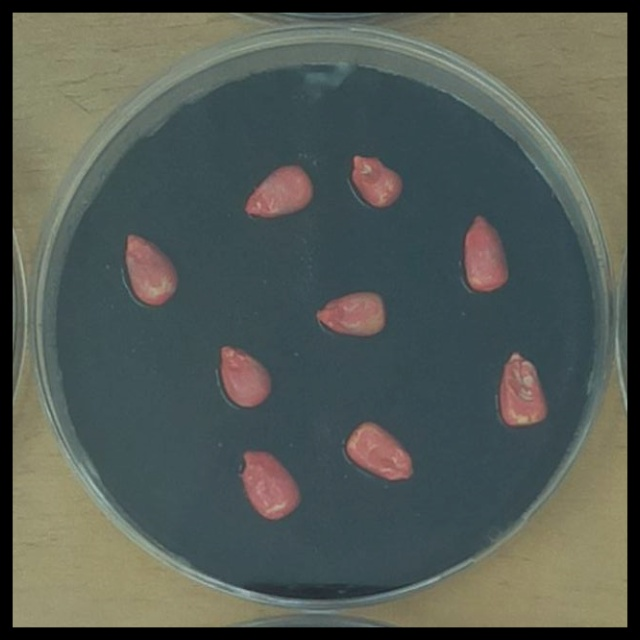Zea mays: (233, 441, 309, 526), (115, 223, 186, 313), (338, 414, 421, 490), (236, 153, 321, 226), (491, 344, 555, 434), (457, 207, 515, 298), (309, 283, 393, 344), (210, 339, 278, 414), (342, 143, 408, 215)
